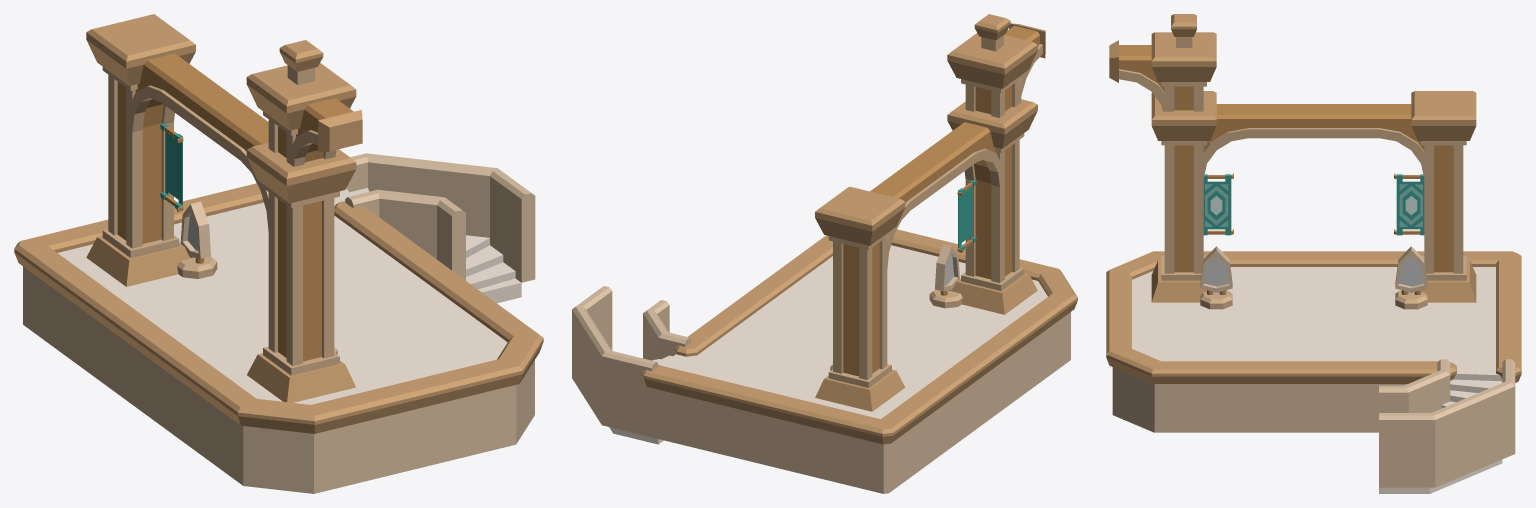
The model's file is TeleportPlatform.fbx.
3 views of the same model, side by side, from view 1: azimuth 30°, elevation 25°; view 2: azimuth 150°, elevation 25°; view 3: azimuth 270°, elevation 25° (orthographic). The views are drawn at different scales.
Visible parts, largest first — view 1: mergedBlocks; view 2: mergedBlocks; view 3: mergedBlocks.
Boxes of the visible parts, x1,y1,x2,y2 form: mergedBlocks: (14, 14, 543, 493); mergedBlocks: (572, 14, 1077, 493); mergedBlocks: (1106, 14, 1521, 493).
Size of the model in its own units: 63 by 58 by 64.
